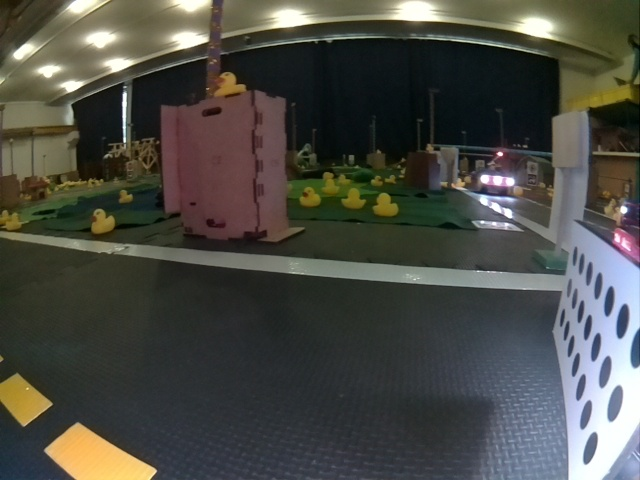Duckie: (216, 71, 247, 95), (375, 193, 399, 217), (91, 208, 114, 233), (300, 187, 319, 206), (343, 189, 364, 206), (323, 181, 339, 194), (7, 214, 18, 228), (119, 189, 129, 202), (1, 209, 10, 223), (340, 173, 349, 183), (386, 175, 394, 184), (372, 176, 380, 184)
Duckiebot: (553, 213, 640, 422), (475, 169, 515, 195)
